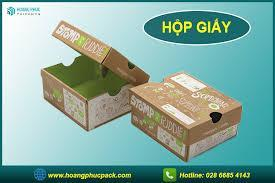box: (40, 19, 150, 133), (129, 72, 242, 162)
